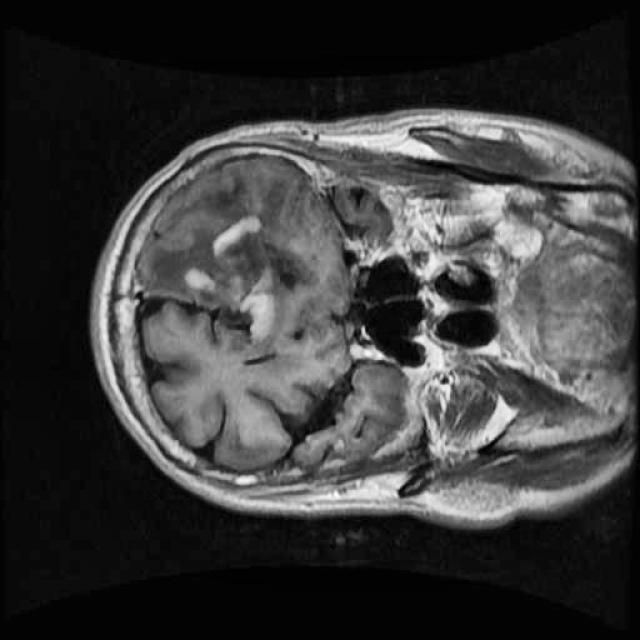Tumor: (140, 159, 326, 357)
